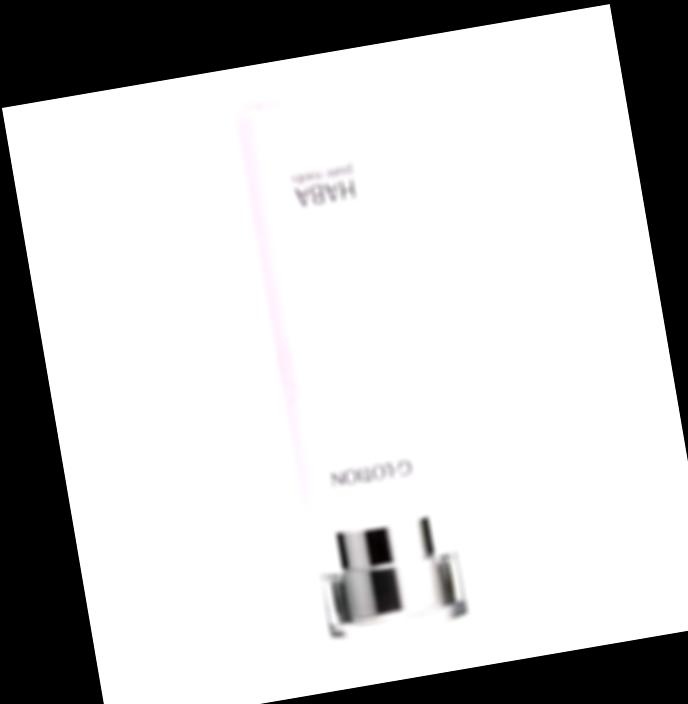cosmetic: (230, 82, 475, 642)
